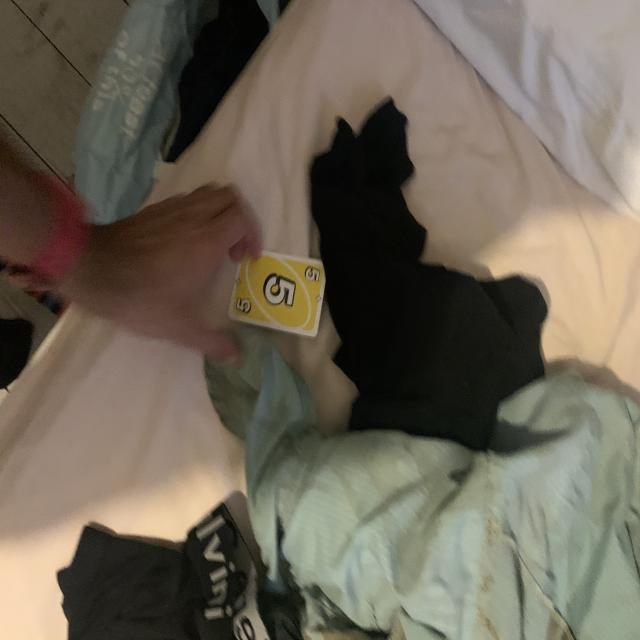lyellow-5: (232, 291, 257, 320)
